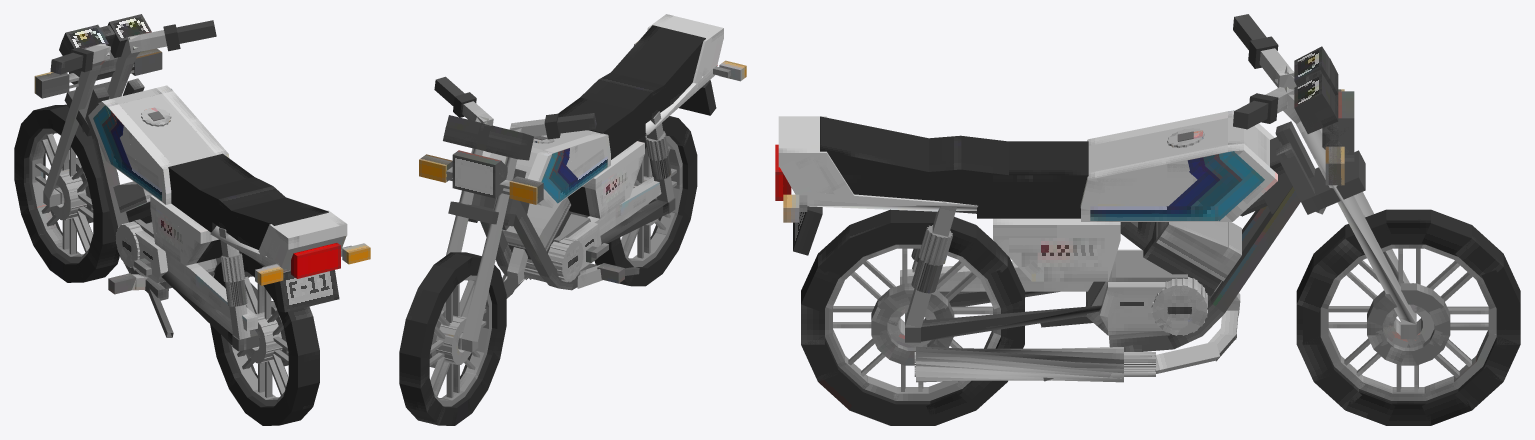
The model's file is xe-may-rx.glb.
The picture shows the model from 3 angles, left to right: view 1: azimuth 30°, elevation 25°; view 2: azimuth 150°, elevation 25°; view 3: azimuth 270°, elevation 25°; orthographic projection. The views are drawn at different scales.
Parts seen in each view (by area): view 1: 5bbec167-816b-ae35-f039-055848d36223_273, ce2506c2-aa44-a9ee-da3f-14e53edcea41_239, 893e0ec5-5bab-14fa-2bb8-8f142078f7e5_298, 203e8c2b-6f88-cf55-2091-f064838d2a6b_277, 92ad9e56-9090-9287-461e-a8f235f54809_14, 0f148178-130f-3ac6-a0d8-1b29862127a8_297, 52155da9-3a8c-5e3a-b2e1-5ef11fea8b95_358, c05116d1-3be0-554d-8293-dc85b344b4eb_237, 9c542ead-3394-0b63-5c6b-abae55d5870c_208, 4f7ef6f8-ed61-b8cc-24d2-7fdff86e5d96_167, 623120b5-61cc-aa29-4912-1f42e20e310a_526, 2575a326-204e-dd59-5368-80e258c97ce9_274 (+56 smaller); view 2: 203e8c2b-6f88-cf55-2091-f064838d2a6b_277, 5bbec167-816b-ae35-f039-055848d36223_273, 92ad9e56-9090-9287-461e-a8f235f54809_14, 80d3c227-6caa-7f25-3fe5-2314572c1a28_16, f649be47-214c-2bb9-591e-9318603088ec_275, 4f7ef6f8-ed61-b8cc-24d2-7fdff86e5d96_167, 52155da9-3a8c-5e3a-b2e1-5ef11fea8b95_358, 2575a326-204e-dd59-5368-80e258c97ce9_274, 89bb396a-1440-091b-0798-3ead6b46830b_33, 5871512f-ebfb-6a5a-5b0d-4579042b3e72_34, deca1dd9-8ae5-188e-870a-a99bcfee3aad_32, c4c16589-db68-713f-1834-c5761600ebde_43 (+56 smaller); view 3: 5bbec167-816b-ae35-f039-055848d36223_273, 203e8c2b-6f88-cf55-2091-f064838d2a6b_277, ce2506c2-aa44-a9ee-da3f-14e53edcea41_239, 2575a326-204e-dd59-5368-80e258c97ce9_274, 02bd7895-353c-3451-b85e-ceeb2beeb0be_3, 3c051835-3245-49e5-6182-09f8022236d7_357, 3d56815a-65e2-0978-aa26-d4b280d8c99d_184, 1f2238f5-2617-5997-f1e0-c5d18c278ea2_244, 4120842e-614e-6834-1da2-cafe9ee5ad59_367, ebfd5736-2a49-989f-e7a5-cc8d60171f3f_198, 23983523-9e87-b27c-f4d7-47af7df17ecc_238, 0921c17a-f984-1e03-0503-5cc50ac0be06_320 (+72 smaller).
Part boxes in pixels (box(x1,y1,x2,y2)): 5bbec167-816b-ae35-f039-055848d36223_273: box(168, 153, 253, 232); ce2506c2-aa44-a9ee-da3f-14e53edcea41_239: box(119, 93, 216, 165); 893e0ec5-5bab-14fa-2bb8-8f142078f7e5_298: box(274, 270, 339, 312); 203e8c2b-6f88-cf55-2091-f064838d2a6b_277: box(231, 197, 328, 236); 92ad9e56-9090-9287-461e-a8f235f54809_14: box(43, 64, 101, 199); 0f148178-130f-3ac6-a0d8-1b29862127a8_297: box(291, 243, 340, 278); 52155da9-3a8c-5e3a-b2e1-5ef11fea8b95_358: box(161, 270, 232, 344); c05116d1-3be0-554d-8293-dc85b344b4eb_237: box(108, 104, 172, 174); 9c542ead-3394-0b63-5c6b-abae55d5870c_208: box(280, 214, 339, 246); 4f7ef6f8-ed61-b8cc-24d2-7fdff86e5d96_167: box(90, 124, 128, 236); 623120b5-61cc-aa29-4912-1f42e20e310a_526: box(283, 316, 319, 355); 2575a326-204e-dd59-5368-80e258c97ce9_274: box(212, 199, 263, 249); 203e8c2b-6f88-cf55-2091-f064838d2a6b_277: box(611, 25, 705, 87); 5bbec167-816b-ae35-f039-055848d36223_273: box(558, 97, 645, 159); 92ad9e56-9090-9287-461e-a8f235f54809_14: box(461, 156, 517, 341); 80d3c227-6caa-7f25-3fe5-2314572c1a28_16: box(452, 150, 501, 198); f649be47-214c-2bb9-591e-9318603088ec_275: box(580, 79, 651, 110); 4f7ef6f8-ed61-b8cc-24d2-7fdff86e5d96_167: box(513, 201, 554, 277); 52155da9-3a8c-5e3a-b2e1-5ef11fea8b95_358: box(600, 200, 668, 244); 2575a326-204e-dd59-5368-80e258c97ce9_274: box(645, 63, 697, 123); 89bb396a-1440-091b-0798-3ead6b46830b_33: box(399, 319, 435, 357); 5871512f-ebfb-6a5a-5b0d-4579042b3e72_34: box(406, 288, 445, 330); deca1dd9-8ae5-188e-870a-a99bcfee3aad_32: box(399, 351, 429, 388); c4c16589-db68-713f-1834-c5761600ebde_43: box(418, 265, 458, 305); 5bbec167-816b-ae35-f039-055848d36223_273: box(977, 141, 1088, 218); 203e8c2b-6f88-cf55-2091-f064838d2a6b_277: box(820, 116, 929, 175); ce2506c2-aa44-a9ee-da3f-14e53edcea41_239: box(1088, 118, 1227, 172); 2575a326-204e-dd59-5368-80e258c97ce9_274: box(842, 175, 976, 204); 02bd7895-353c-3451-b85e-ceeb2beeb0be_3: box(1295, 121, 1416, 324); 3c051835-3245-49e5-6182-09f8022236d7_357: box(921, 305, 1102, 341); 3d56815a-65e2-0978-aa26-d4b280d8c99d_184: box(1210, 186, 1300, 313); 1f2238f5-2617-5997-f1e0-c5d18c278ea2_244: box(993, 218, 1120, 239); 4120842e-614e-6834-1da2-cafe9ee5ad59_367: box(1108, 282, 1165, 330); ebfd5736-2a49-989f-e7a5-cc8d60171f3f_198: box(802, 191, 977, 212); 23983523-9e87-b27c-f4d7-47af7df17ecc_238: box(1087, 145, 1227, 191); 0921c17a-f984-1e03-0503-5cc50ac0be06_320: box(1090, 206, 1218, 220).
Size of the model in its own units: 0.3246 by 0.5259 by 1.
1 material, 1 textured.
